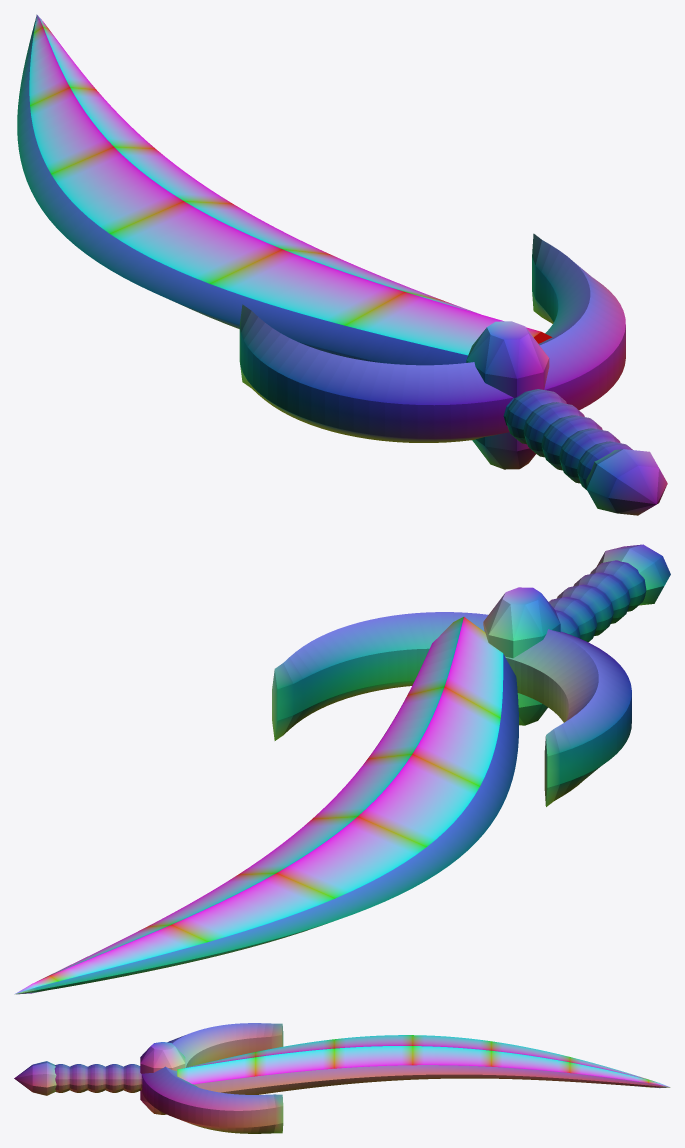
File: SM_LyraDaggerCrystal.fbx
3 renders of one model, top to bottom at view 1: azimuth 30°, elevation 25°; view 2: azimuth 150°, elevation 25°; view 3: azimuth 270°, elevation 25°, orthographic. The views are drawn at different scales.
Visible parts, largest first — view 1: SM_LyraDaggerCrystal; view 2: SM_LyraDaggerCrystal; view 3: SM_LyraDaggerCrystal.
Part boxes in pixels (bbox=[...]): SM_LyraDaggerCrystal: bbox=[17, 14, 667, 515]; SM_LyraDaggerCrystal: bbox=[14, 544, 670, 994]; SM_LyraDaggerCrystal: bbox=[14, 1023, 670, 1133].
Size of the model in its own units: 0.2734 by 0.1 by 0.918.
